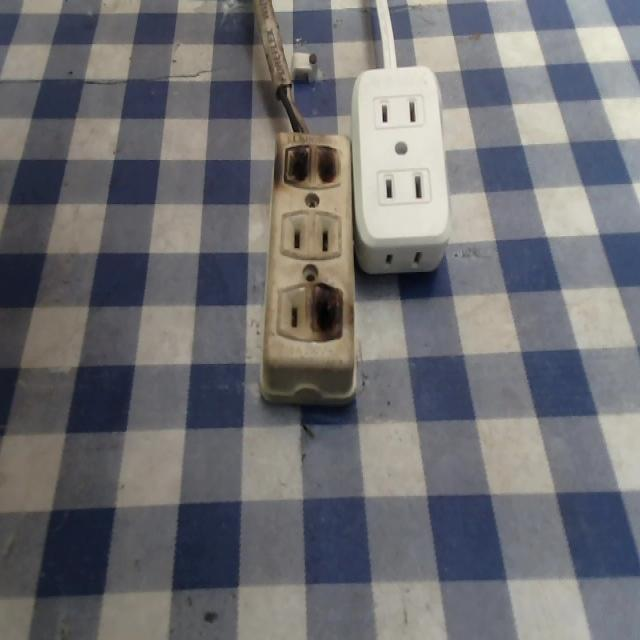-: (282, 140, 345, 193), (308, 284, 346, 341)
